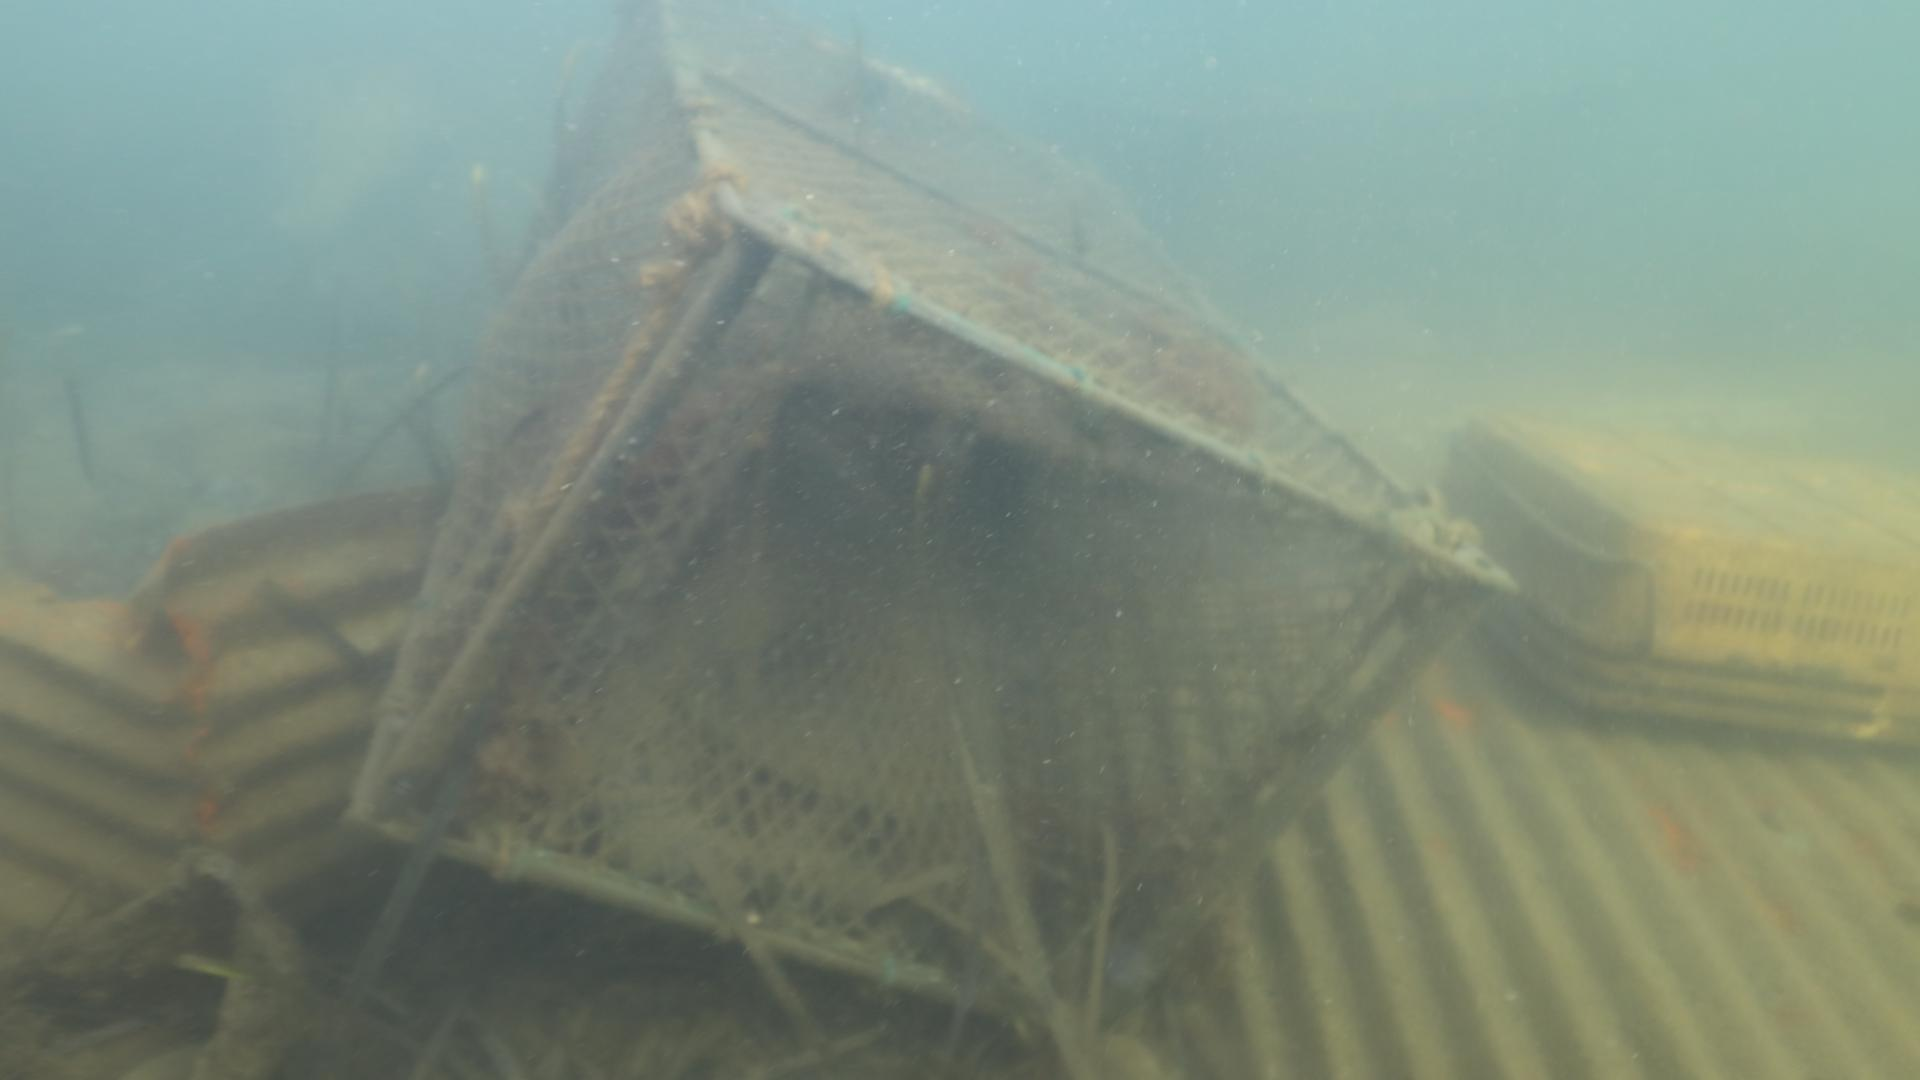rectangular fish trap: (338, 0, 1516, 1023)
